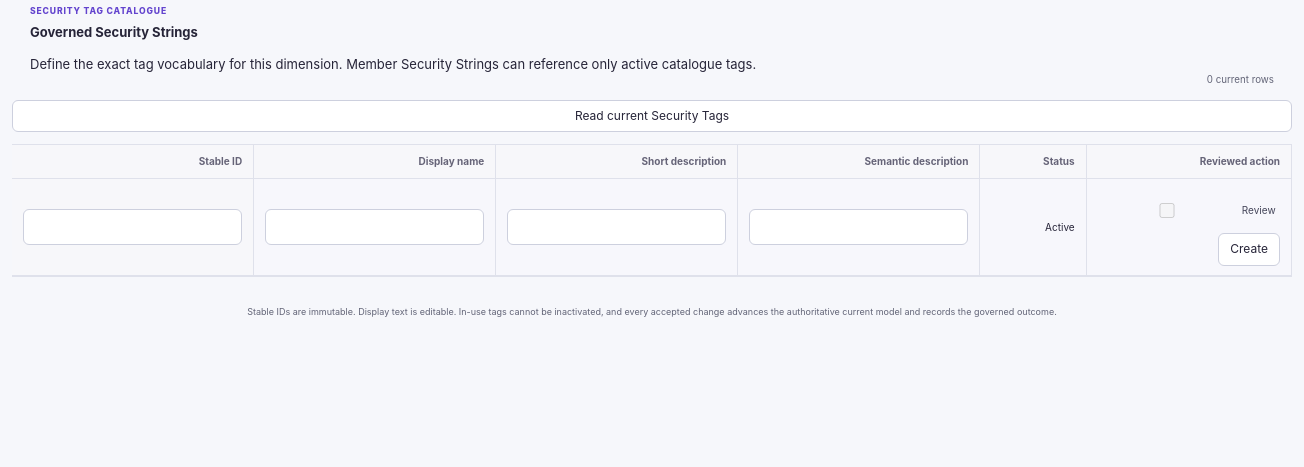
retries only the admitted Security Tag packet after an exact missing receipt
The image size is (1304, 467).
Step 1. Type "NorthRead" into the field named "New Security Tag stable ID" → (133, 227), box [23,209,242,245]
Step 2. Type "North" into the field named "New Security Tag display name" → (375, 227), box [265,209,484,245]
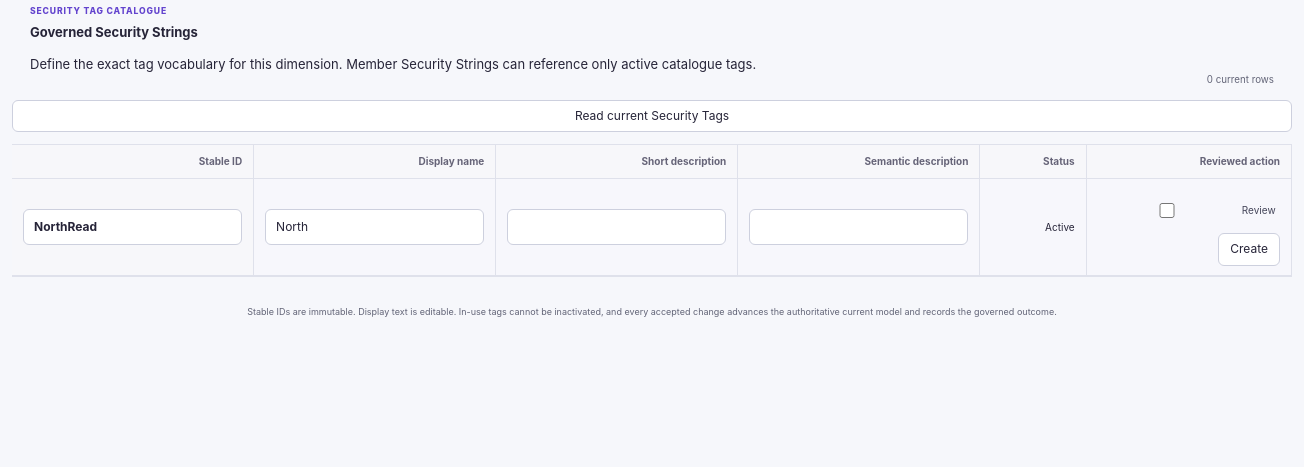
Step 3. Click the checkbox labelled "Review" → (1167, 211), box [1102,203,1232,218]
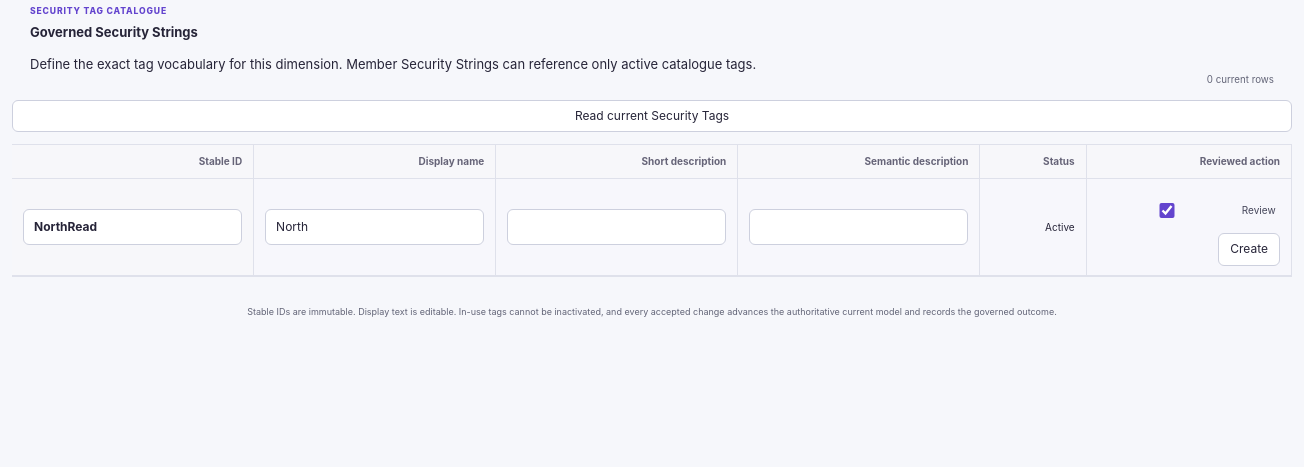
Step 4. Click the button "Create" → (1249, 250), box [1218,233,1280,266]
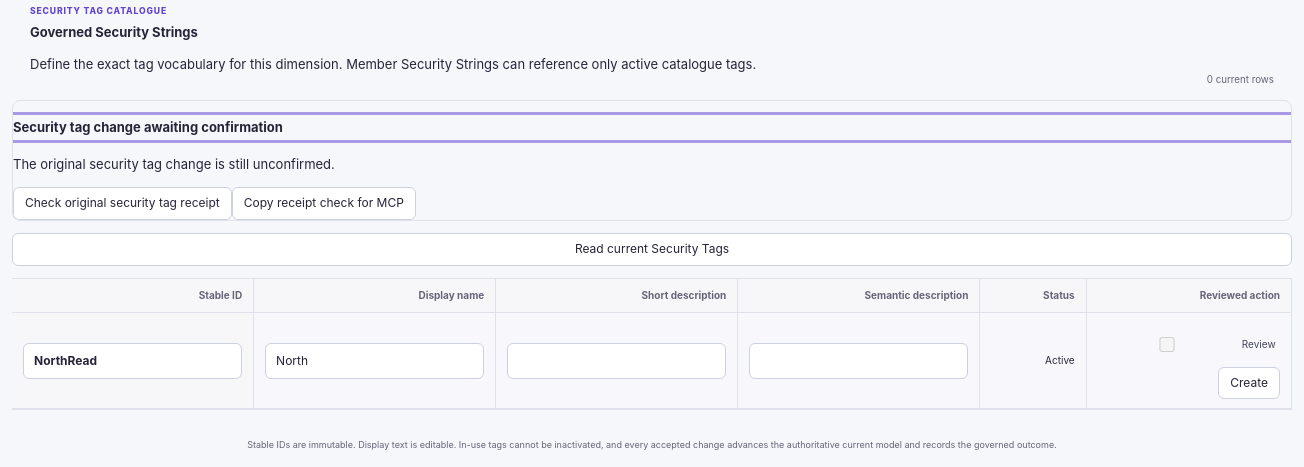
Result: the button "Check original security tag receipt" is enabled
Step 5. Click the button "Check original security tag receipt" → (122, 204), box [13,187,232,220]
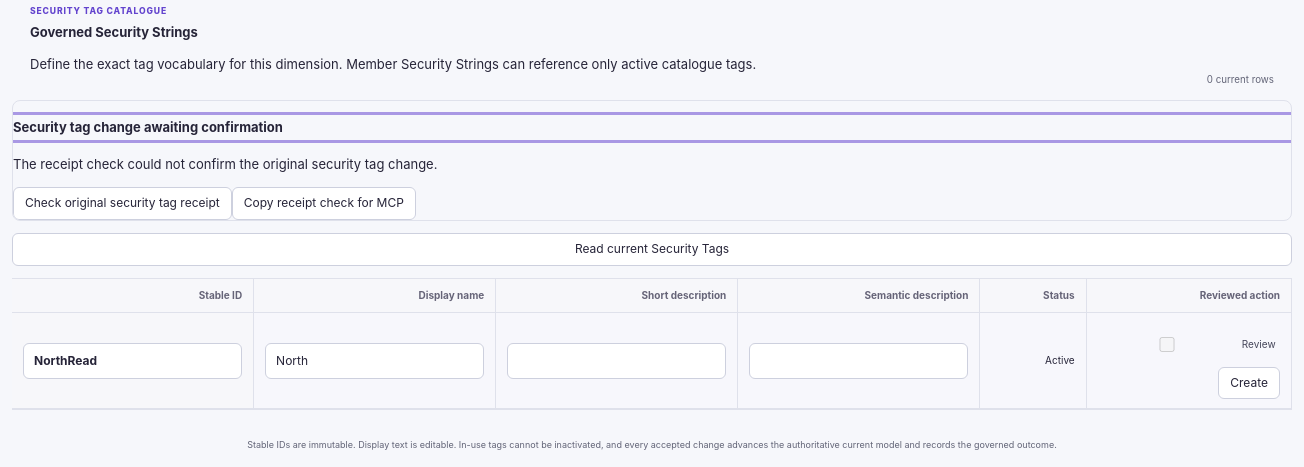
Expected: the button "Retry original security tag change" is not shown
Result: the field named "New Security Tag stable ID" is disabled at [23,342,242,378]
Result: the text "The receipt check could not confirm the original security tag change." is shown at [13,156,438,172]
Step 6. Click the button "Check original security tag receipt" → (122, 204), box [13,187,232,220]
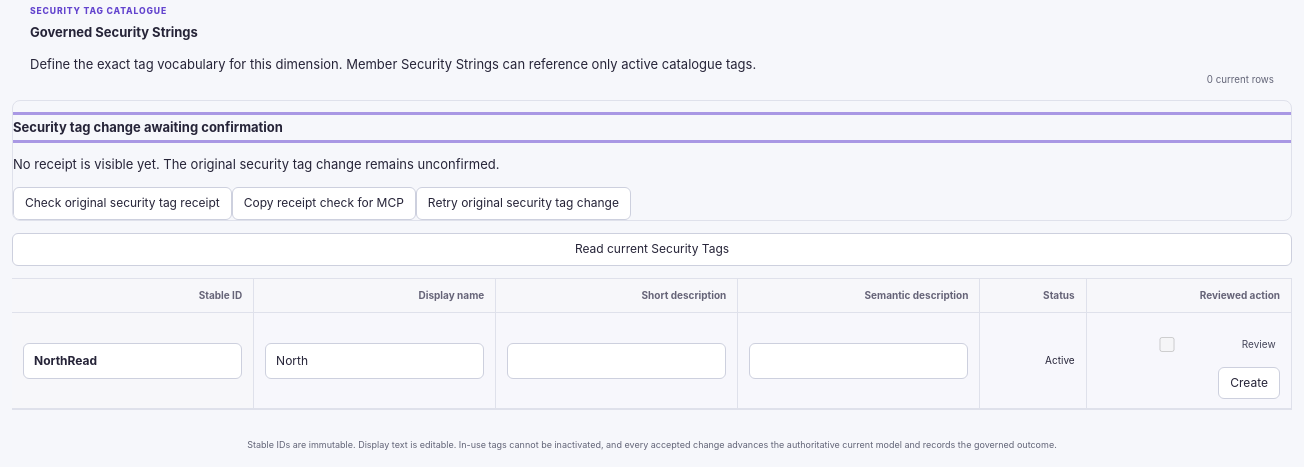
Result: the button "Retry original security tag change" is enabled
Step 7. Click the button "Retry original security tag change" → (523, 204), box [416,187,631,220]
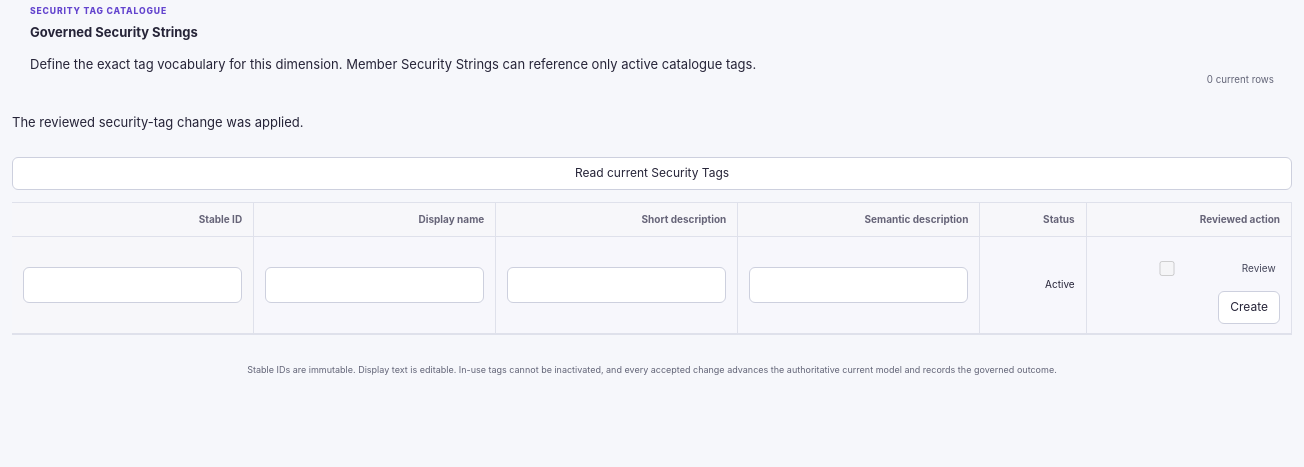
Result: the text "The reviewed security-tag change was applied." is shown at [12,114,304,130]
Result: the field named "New Security Tag stable ID" is enabled at [23,267,242,303]
Result: the field named "New Security Tag stable ID" is empty at [23,267,242,303]
